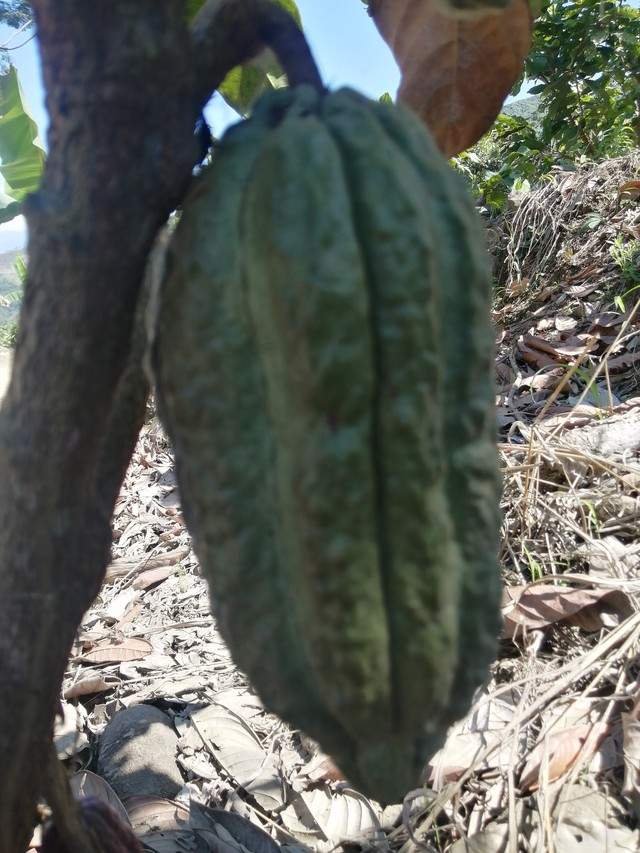Health: (139, 66, 528, 813)
